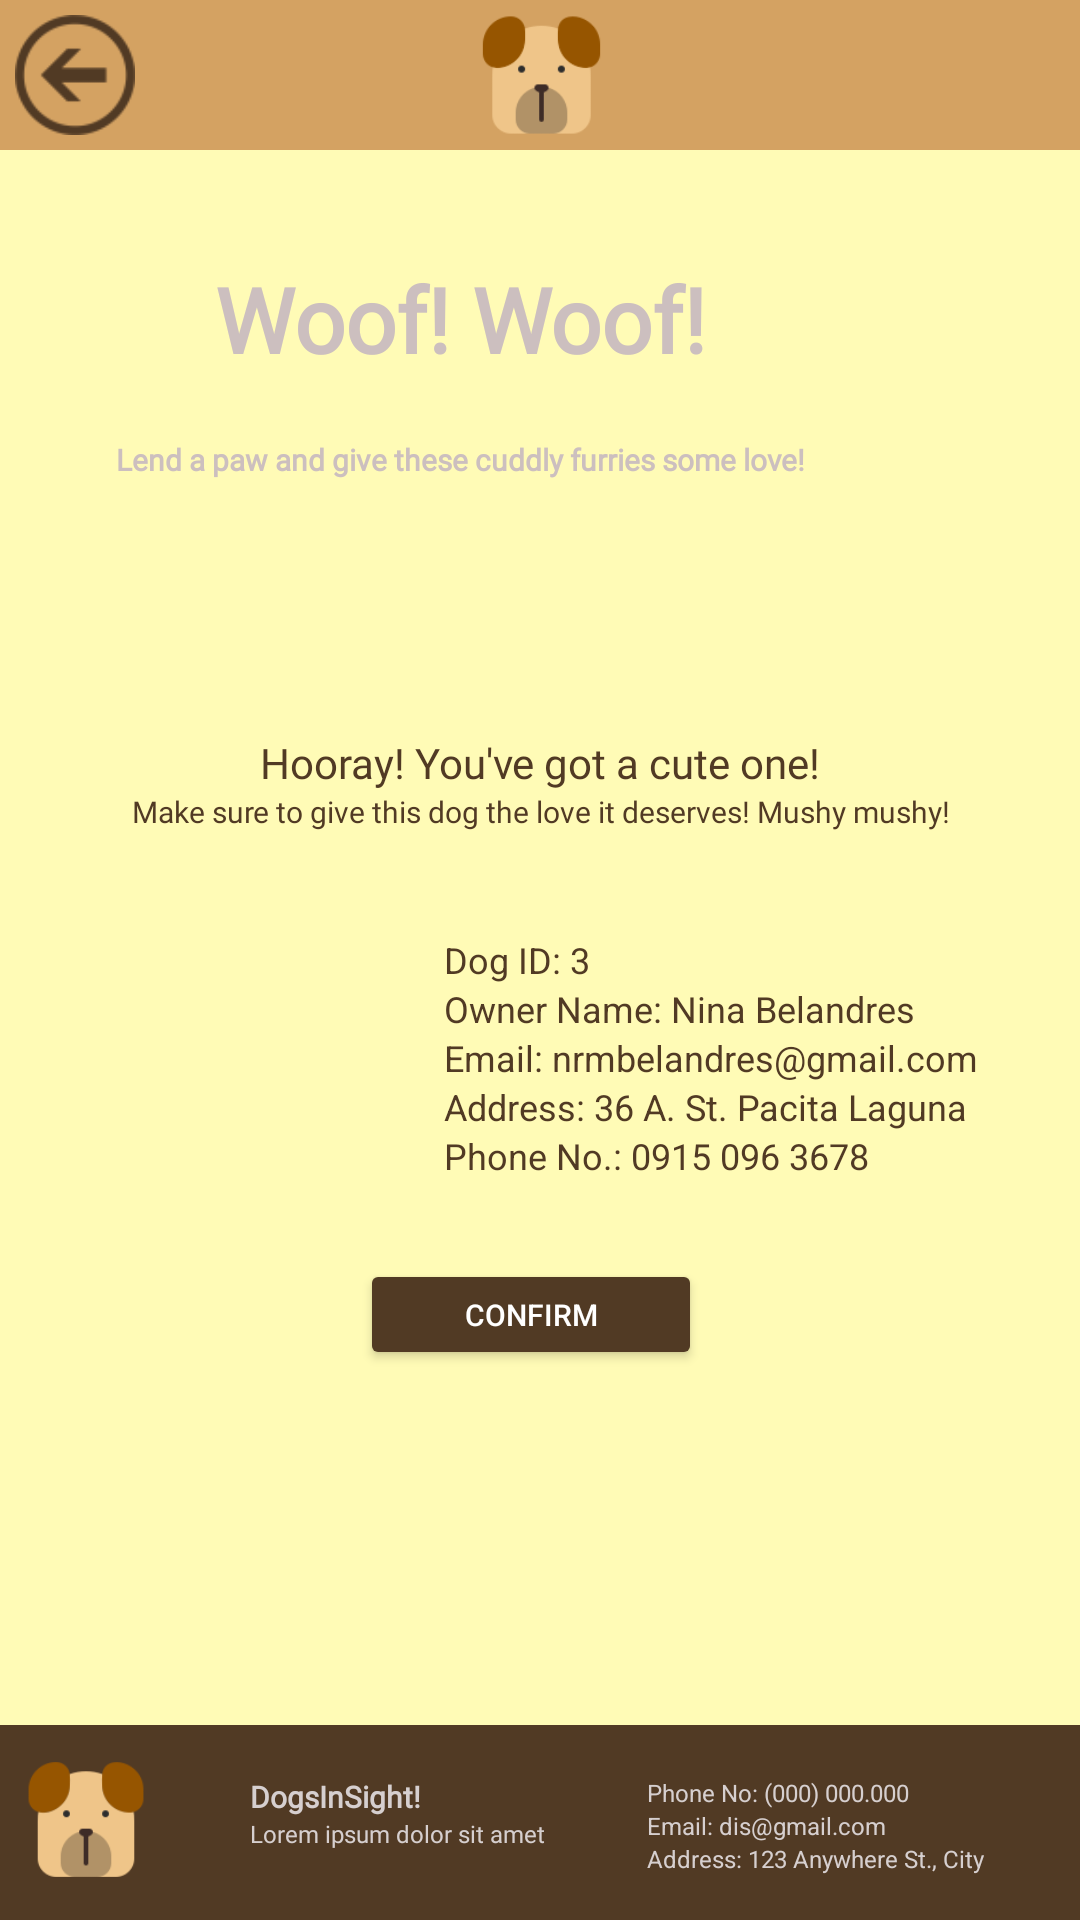

Point at icon controls on the screen. Image size 1080x1920, points as [x,y].
back: [75,75]
